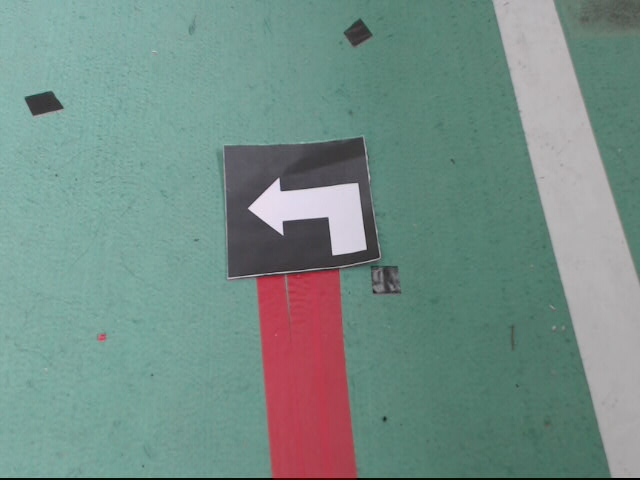left: (223, 136, 382, 278)
